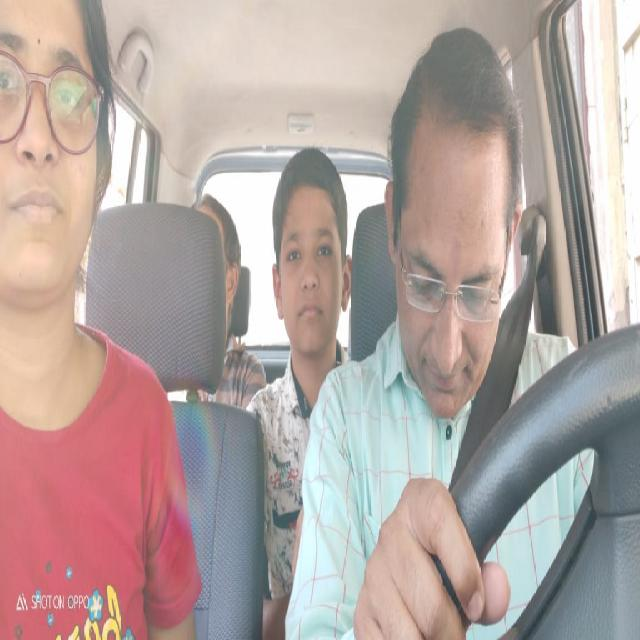drowsy: (381, 19, 524, 431)
person: (0, 0, 132, 323), (269, 147, 352, 366), (194, 187, 245, 330)
